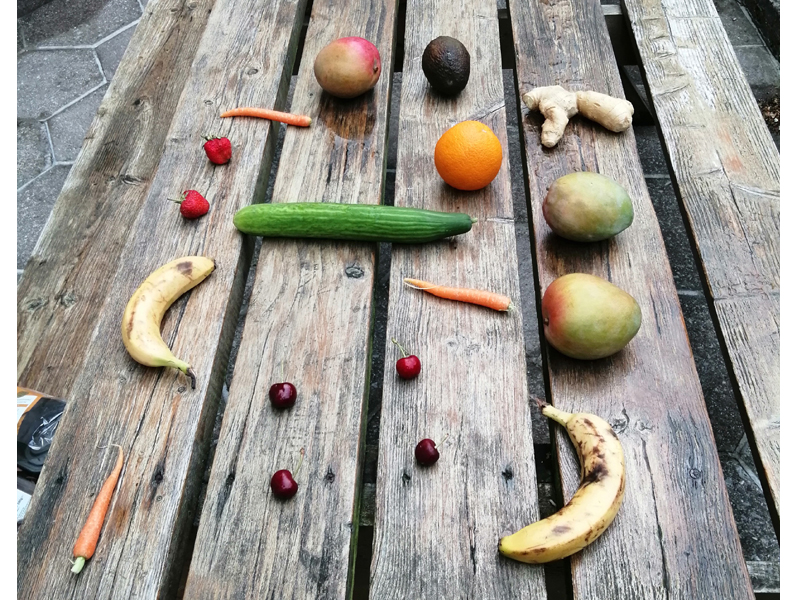avocado: (417, 33, 476, 107)
banana: (494, 400, 631, 576), (106, 250, 229, 389)
carrot: (393, 265, 525, 334), (68, 438, 129, 584), (213, 104, 309, 133)
cherry: (261, 449, 314, 503), (405, 433, 457, 474), (265, 364, 306, 416), (391, 340, 428, 383)
ginger: (517, 74, 640, 153)
mango: (530, 266, 647, 361), (530, 170, 640, 244), (304, 27, 389, 97)
orange: (427, 112, 507, 194)
strawberry: (160, 181, 217, 224), (201, 129, 236, 168)
